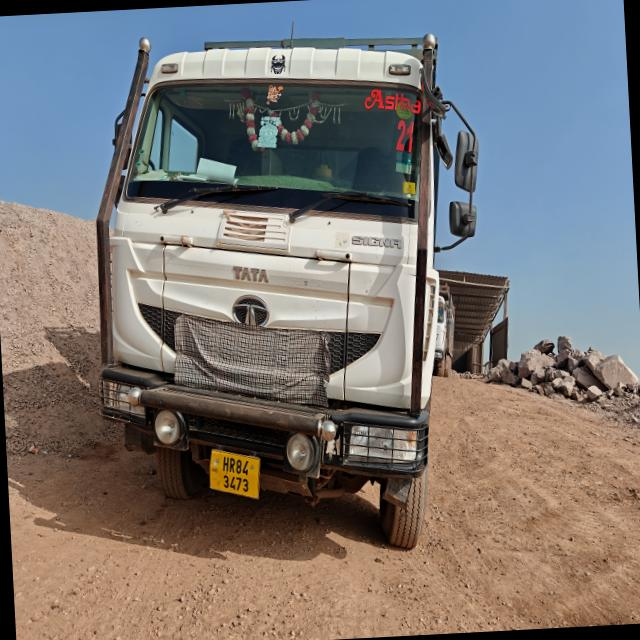license_plate: (210, 450, 260, 499)
